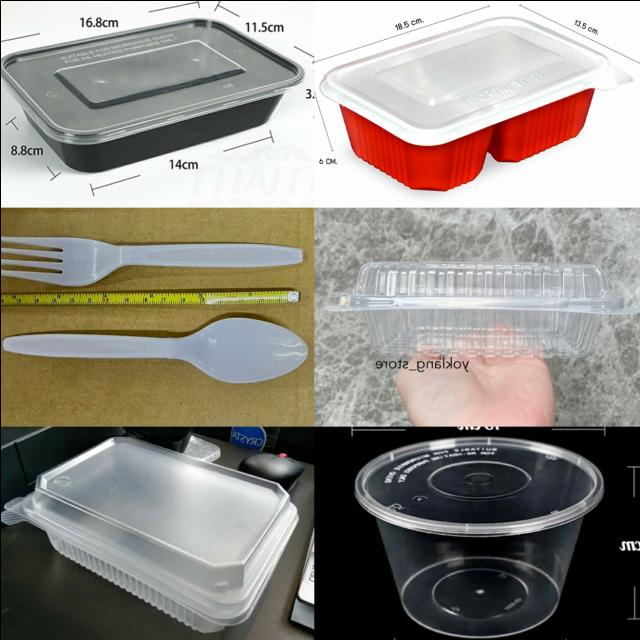plastik: (0, 437, 298, 631), (319, 16, 630, 190), (354, 435, 604, 637), (0, 18, 304, 170), (328, 261, 632, 356), (2, 316, 307, 383), (0, 235, 301, 285)
